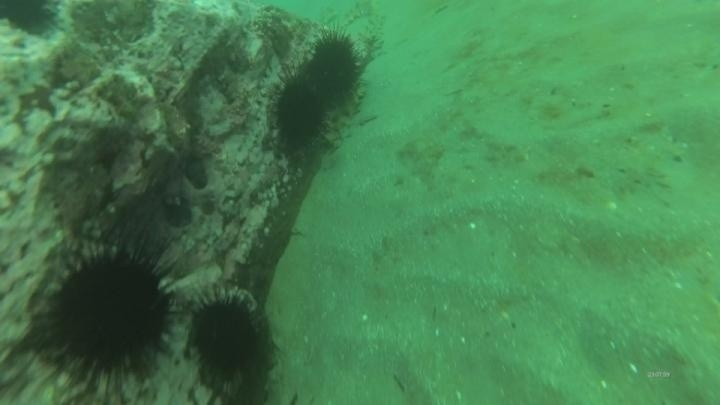echinus: (24, 235, 188, 399), (184, 287, 273, 393), (267, 73, 333, 154), (302, 28, 367, 107), (0, 1, 62, 40)
